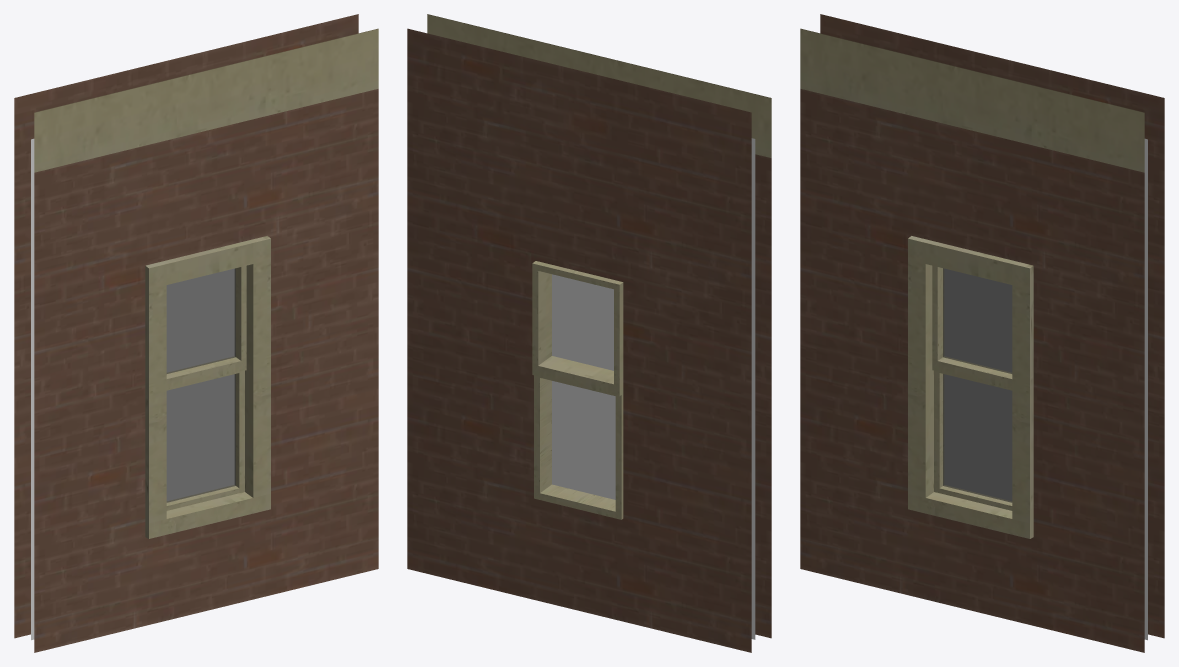
File: Brick_Window_Square_Single.glb
3 renders of one model, left to right at view 1: azimuth 30°, elevation 25°; view 2: azimuth 150°, elevation 25°; view 3: azimuth 330°, elevation 25°, orthographic.
Visible parts, largest first — view 1: Brick_Window_Square_Single; view 2: Brick_Window_Square_Single; view 3: Brick_Window_Square_Single.
Boxes of the visible parts, x1,y1,x2,y2 form: Brick_Window_Square_Single: [14, 14, 378, 652]; Brick_Window_Square_Single: [407, 14, 771, 652]; Brick_Window_Square_Single: [800, 14, 1164, 652].
Size of the model in its own units: 2 by 3 by 0.271.
Materials: 4 (2 with a texture image).
